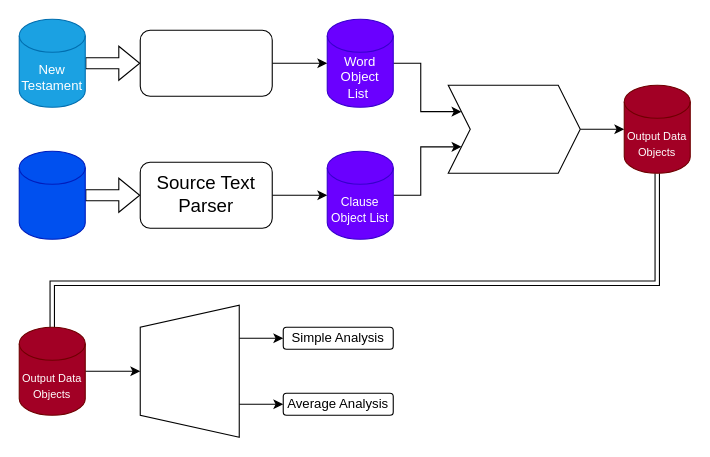
Some shapes in this 710 by 457 pixel diagram are drawn without their labels. The shapes that lost their labels are listed below. From the top down, each one's centre as x and y in pixels, then its label:
At pixel 205 62: "Preprocessor".
At pixel 513 128: "Probabilistic Data Synthesis".
At pixel 51 194: "Source Text".
At pixel 189 370: "Probabilistic Data Analysis".
